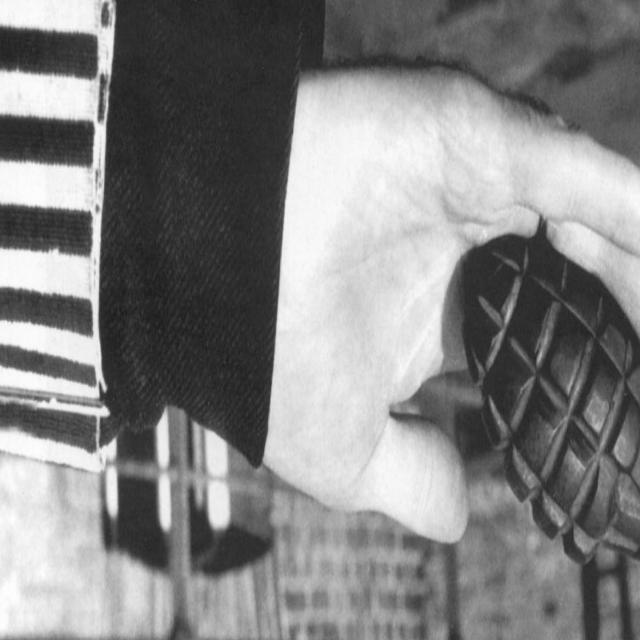grenade: (461, 237, 640, 568)
